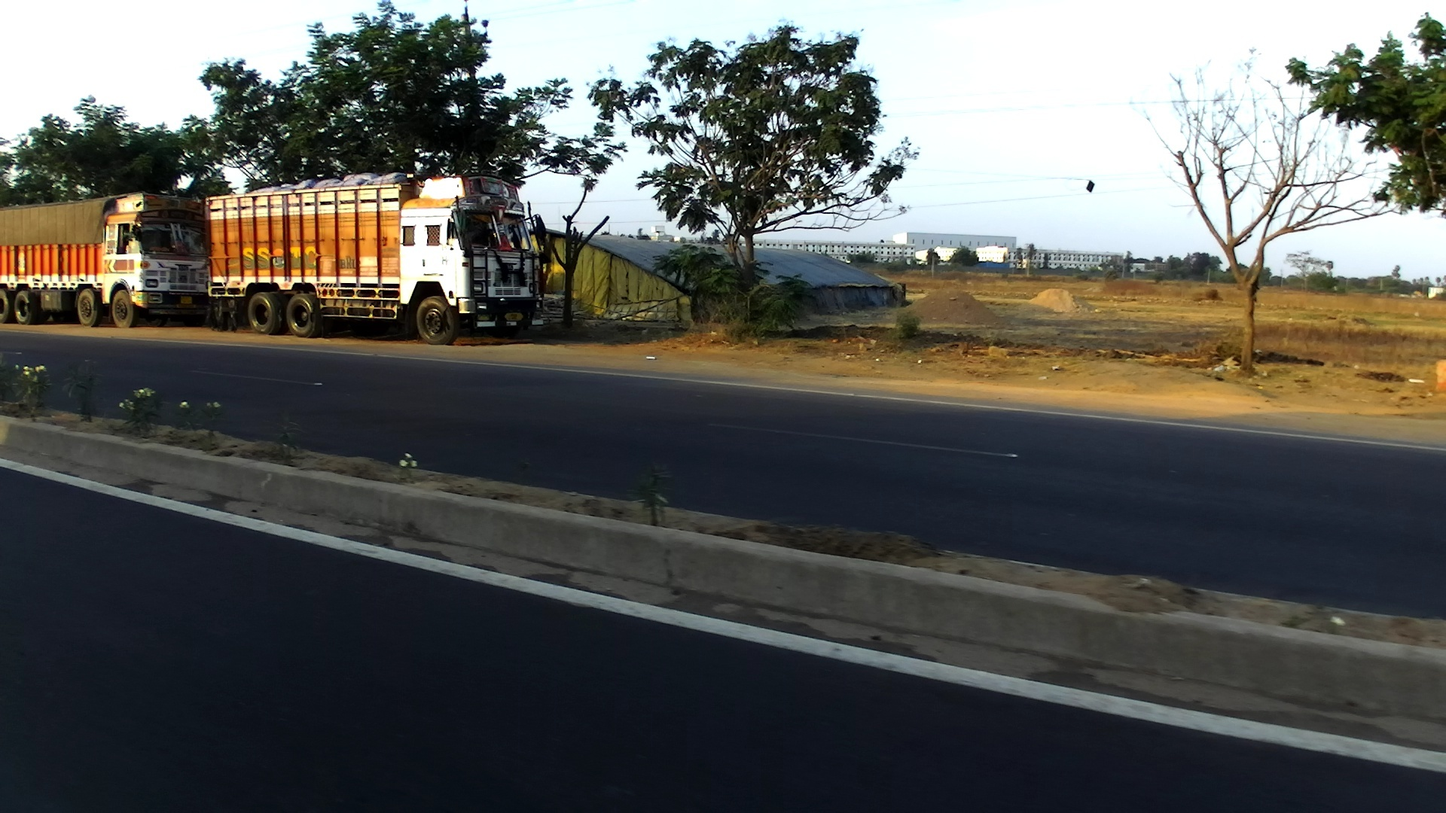truck: (206, 172, 554, 346), (2, 187, 215, 330)
